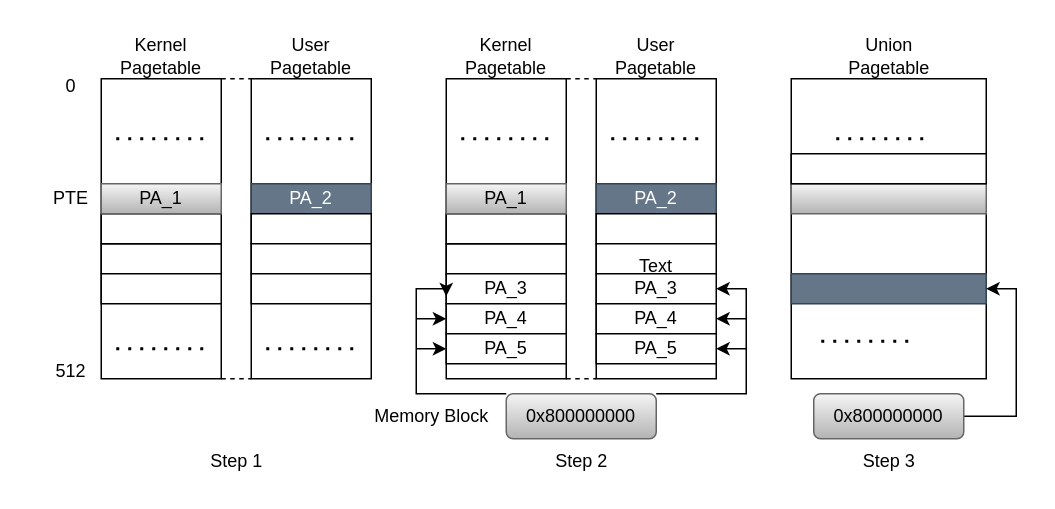
This 1055x509 diagram has some shape labels left out. The centre of each missing label's shape, as x and y in pixels:
Kernel Only: point 888,198
Kernel Staff: point 888,168
User Only: point 888,288
